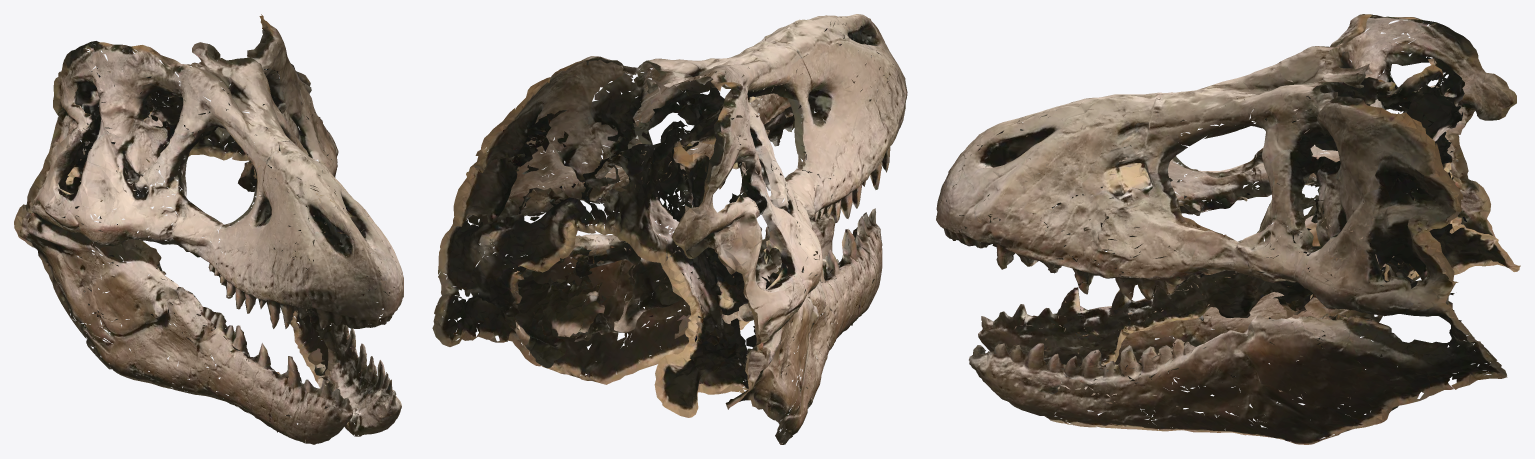
File: TRex_Skull.glb
The picture shows the model from 3 angles, left to right: view 1: azimuth 30°, elevation 25°; view 2: azimuth 150°, elevation 25°; view 3: azimuth 270°, elevation 25°; orthographic projection. The views are drawn at different scales.
Visible parts, largest first — view 1: Object_2, Object_4, Object_3, Object_5, Object_6, Object_7, Object_8; view 2: Object_2, Object_7, Object_3, Object_4, Object_6, Object_8, Object_5; view 3: Object_4, Object_3, Object_7, Object_5, Object_6, Object_2, Object_8.
Part boxes in pixels (box(x1,y1,x2,y2)): Object_2: box(14, 41, 225, 401); Object_4: box(165, 103, 381, 443); Object_3: box(60, 42, 368, 442); Object_5: box(80, 115, 403, 444); Object_6: box(151, 64, 403, 443); Object_7: box(145, 14, 331, 394); Object_8: box(91, 42, 279, 386); Object_2: box(649, 108, 838, 444); Object_7: box(434, 56, 833, 379); Object_3: box(468, 34, 906, 431); Object_4: box(524, 14, 906, 364); Object_6: box(490, 16, 906, 384); Object_8: box(432, 70, 822, 443); Object_5: box(503, 15, 907, 358); Object_4: box(963, 89, 1342, 436); Object_3: box(1026, 14, 1458, 444); Object_7: box(1182, 46, 1497, 427); Object_5: box(936, 98, 1466, 430); Object_6: box(937, 46, 1433, 444); Object_2: box(1159, 18, 1520, 360); Object_8: box(1242, 14, 1507, 389).
Bounding box in the file's own units: 0.9554 × 1.02 × 1.5.
1 material, 1 textured.
